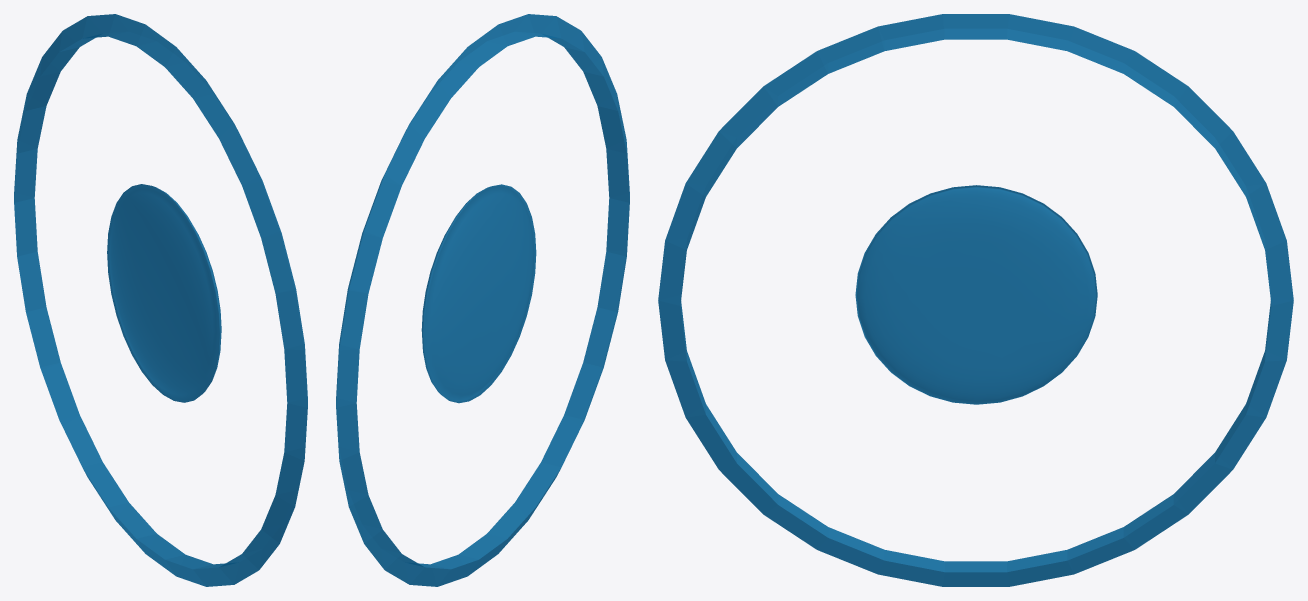
Rendered from cyclic_control.FBX.
The picture shows the model from 3 angles, left to right: view 1: azimuth 30°, elevation 25°; view 2: azimuth 150°, elevation 25°; view 3: azimuth 270°, elevation 25°; orthographic projection. The views are drawn at different scales.
Visible parts, largest first — view 1: Torus002, Sphere001; view 2: Torus002, Sphere001; view 3: Torus002, Sphere001.
Boxes of the visible parts, box(x1,y1,x2,y2) form: Torus002: box(14, 14, 307, 586); Sphere001: box(107, 184, 221, 402); Torus002: box(336, 14, 629, 586); Sphere001: box(421, 184, 536, 403); Torus002: box(658, 14, 1293, 586); Sphere001: box(855, 185, 1097, 404).
Bounding box in the file's own units: 0.8052 × 14.92 × 15.
